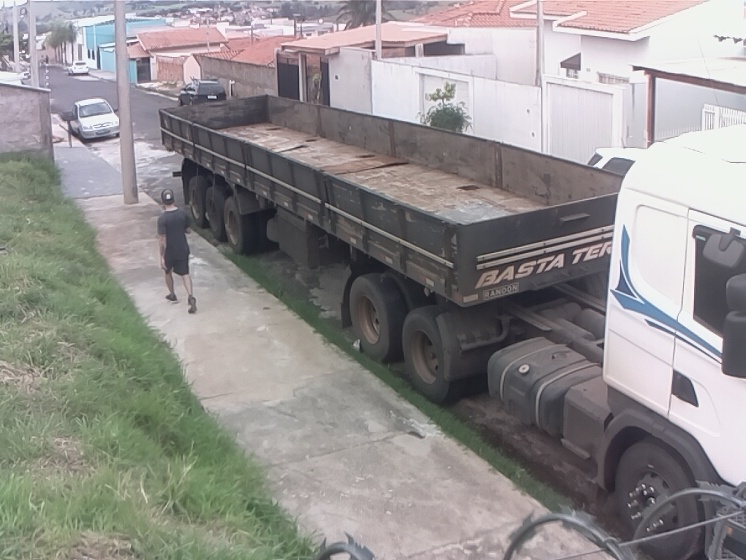person: (152, 186, 200, 317)
